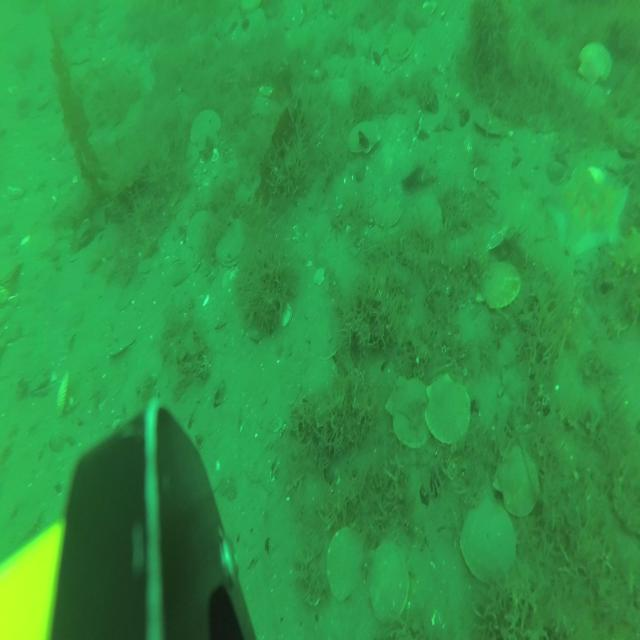holothurian: (610, 220, 640, 276)
scallop: (461, 501, 518, 587), (368, 535, 410, 624), (387, 374, 435, 451), (424, 370, 470, 446), (367, 145, 418, 208), (494, 448, 538, 515), (326, 530, 366, 598), (378, 104, 416, 167), (481, 258, 521, 309), (580, 38, 612, 89), (414, 192, 443, 247), (217, 221, 247, 271), (185, 210, 215, 258), (189, 111, 221, 155), (348, 119, 382, 159), (387, 24, 417, 62), (473, 109, 504, 145), (372, 193, 401, 231), (1, 254, 23, 294), (284, 6, 306, 35)
starfish: (546, 169, 630, 271)
